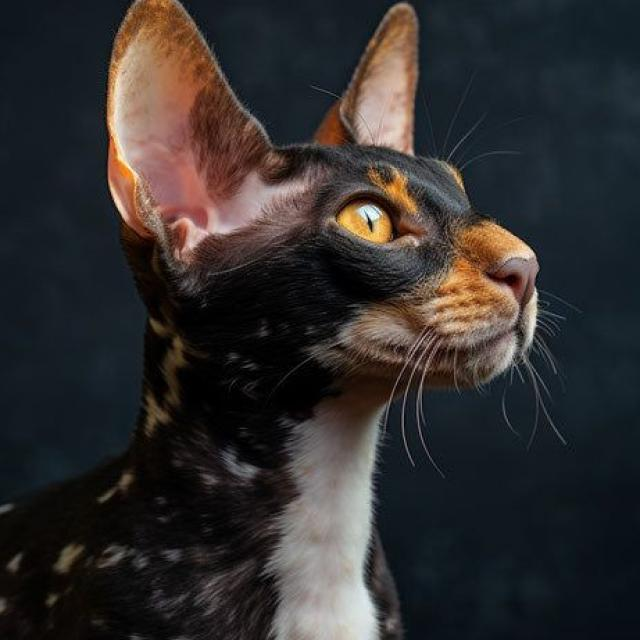Cornish Rex: (0, 0, 548, 640)
